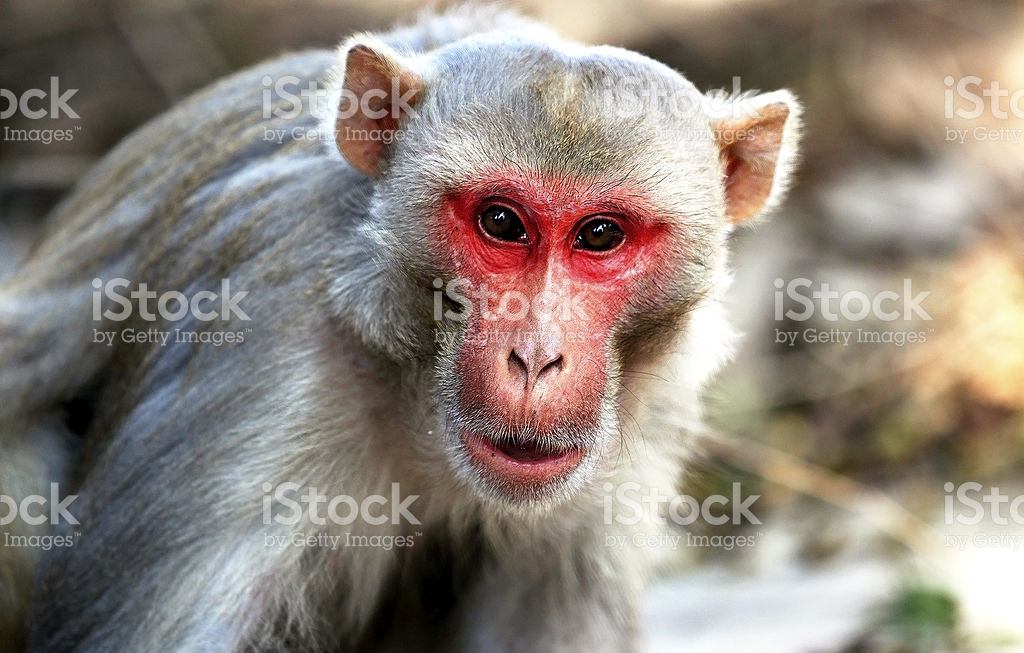monkey: (7, 5, 802, 653)
